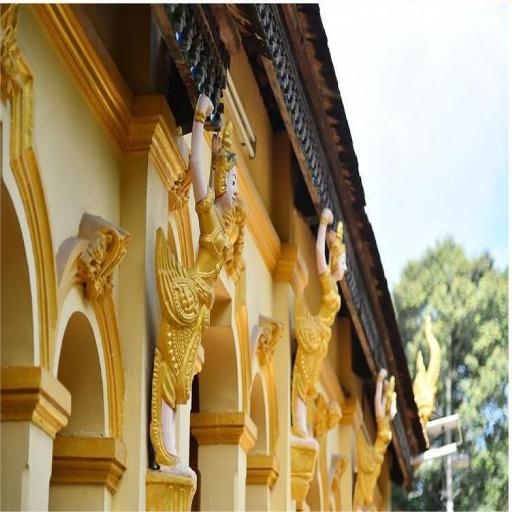than: (150, 118, 242, 474), (288, 218, 348, 431), (358, 378, 398, 497)
